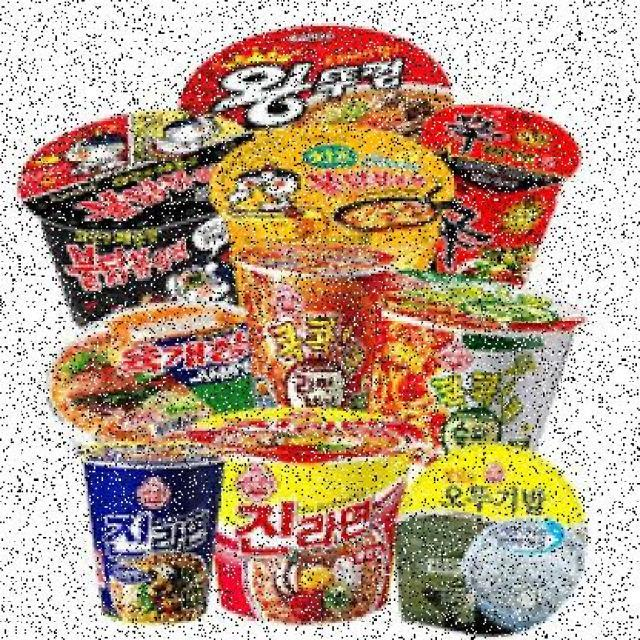Miscellaneous: (8, 108, 262, 349), (207, 398, 416, 616), (205, 127, 462, 296), (180, 26, 468, 168), (376, 270, 582, 468), (37, 318, 285, 460), (425, 104, 581, 313), (244, 244, 390, 452), (81, 446, 230, 626)
